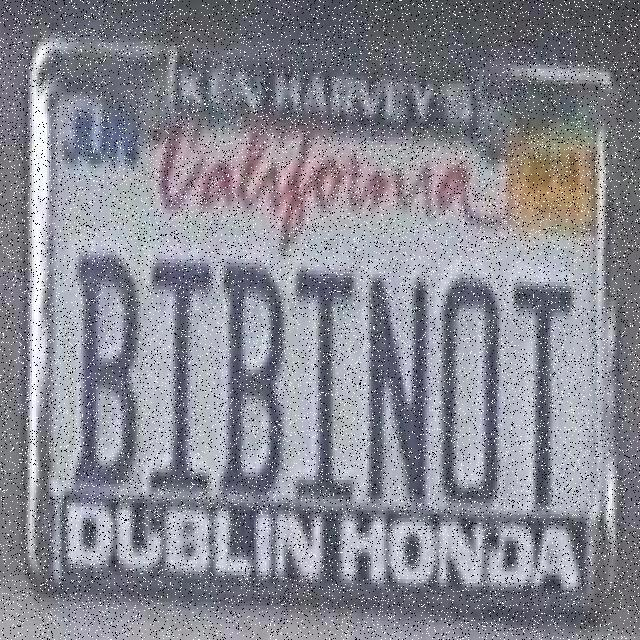LicensePlate: (26, 23, 620, 608)
